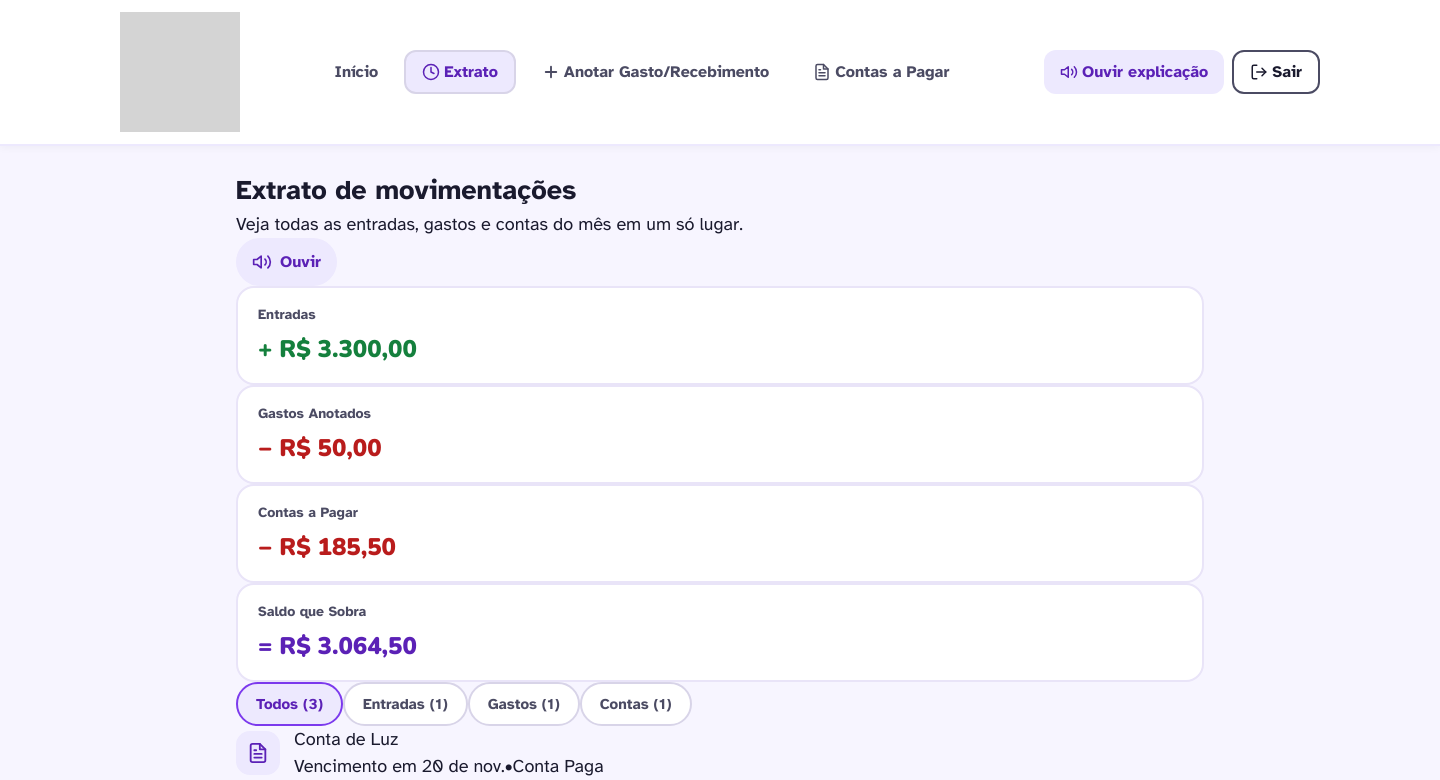
Test case: Página Extrato de Movimentações › filtra as movimentações ao alternar entre as abas
Check: the text "Conta de Luz" is shown, box [294,728,398,750]
Click the tab "Gastos (1)": click(524, 704) [468,682,580,726]
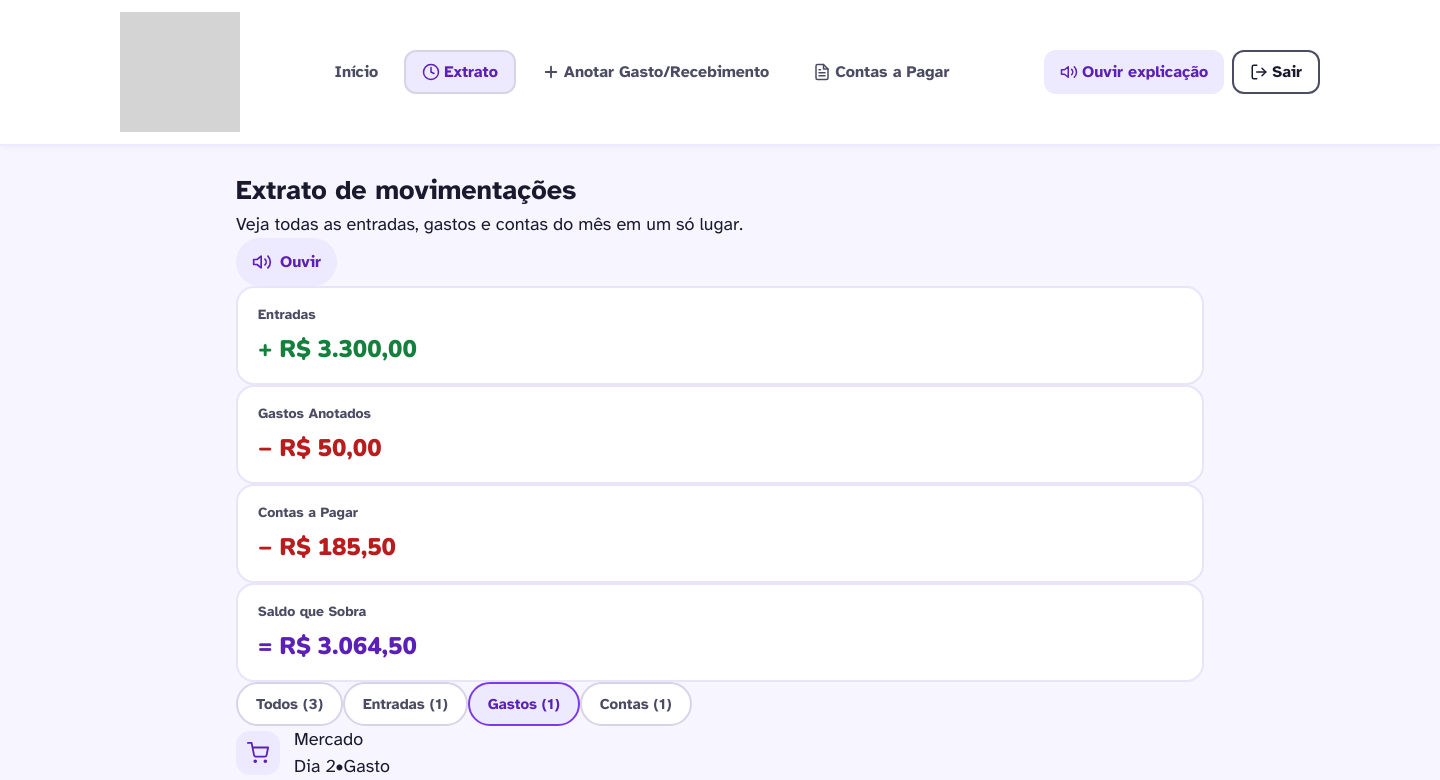
Check: the text "Conta de Luz" is gone
